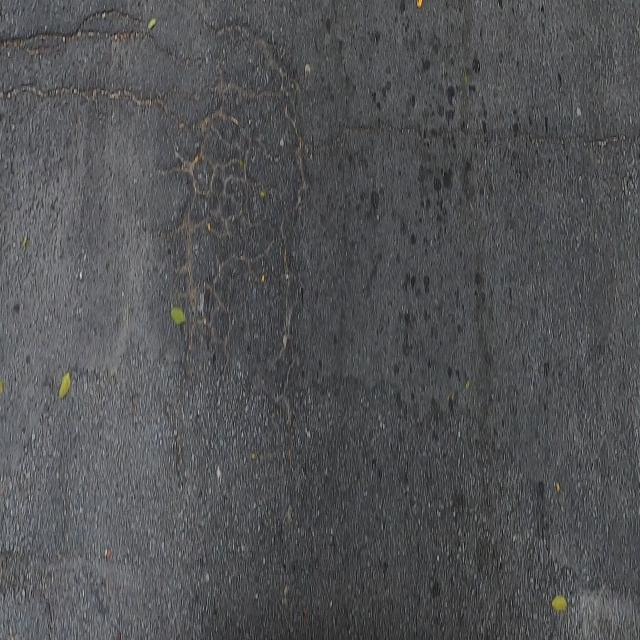Retak-Buaya: (163, 18, 308, 374)
Retak-Melintang: (0, 2, 192, 69), (329, 114, 640, 148), (3, 74, 184, 129)
